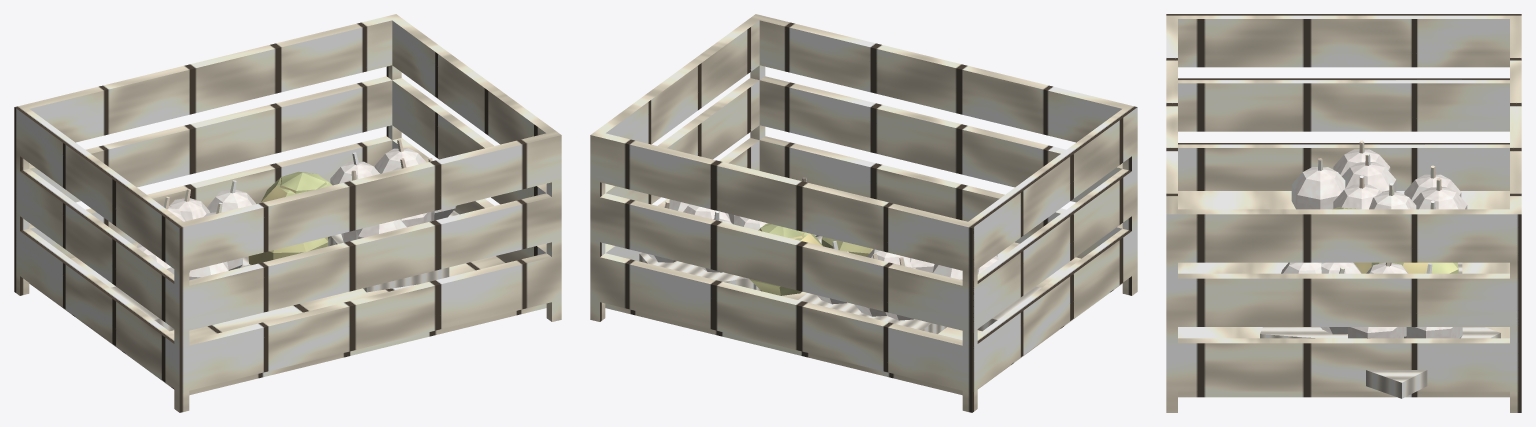
Rendered from cestone.obj.
3 renders of one model, left to right at view 1: azimuth 30°, elevation 25°; view 2: azimuth 150°, elevation 25°; view 3: azimuth 270°, elevation 25°, orthographic. The views are drawn at different scales.
Parts seen in each view (by area): view 1: legno_000, legno_001, pelle_007, pelle_019, cartone_014, erba_010, pelle_021, erba_013, pelle_015; view 2: legno_000, legno_001, cartone_006, cartone_018, pelle_003, pelle_019, erba_012; view 3: legno_000, legno_001, pelle_003, pelle_005, cartone_018, pelle_007, pelle_015, cartone_014, pelle_019, pelle_009, pelle_021, erba_012.
Part boxes in pixels (<box>): legno_000: <box>14,14,561,392</box>; legno_001: <box>14,14,561,412</box>; pelle_007: <box>163,190,255,221</box>; pelle_019: <box>330,161,456,220</box>; cartone_014: <box>328,234,449,292</box>; erba_010: <box>248,237,328,265</box>; pelle_021: <box>375,148,426,173</box>; erba_013: <box>280,171,326,193</box>; pelle_015: <box>341,180,406,242</box>; legno_000: <box>590,14,1137,392</box>; legno_001: <box>590,14,1137,412</box>; cartone_006: <box>798,293,946,333</box>; cartone_018: <box>639,252,753,289</box>; pelle_003: <box>910,256,998,280</box>; pelle_019: <box>664,199,732,272</box>; erba_012: <box>749,223,822,295</box>; legno_000: <box>1166,14,1521,391</box>; legno_001: <box>1166,14,1521,412</box>; pelle_003: <box>1333,149,1396,209</box>; pelle_005: <box>1291,167,1345,209</box>; cartone_018: <box>1366,327,1500,398</box>; pelle_007: <box>1404,174,1467,209</box>; pelle_015: <box>1281,262,1407,273</box>; cartone_014: <box>1260,327,1347,338</box>; pelle_019: <box>1348,273,1425,338</box>; pelle_009: <box>1369,192,1416,209</box>; pelle_021: <box>1406,327,1462,338</box>; erba_012: <box>1371,262,1458,273</box>.
Bounding box in the file's own units: 0.851 × 0.37 × 0.6.
8 materials, 8 textured.
